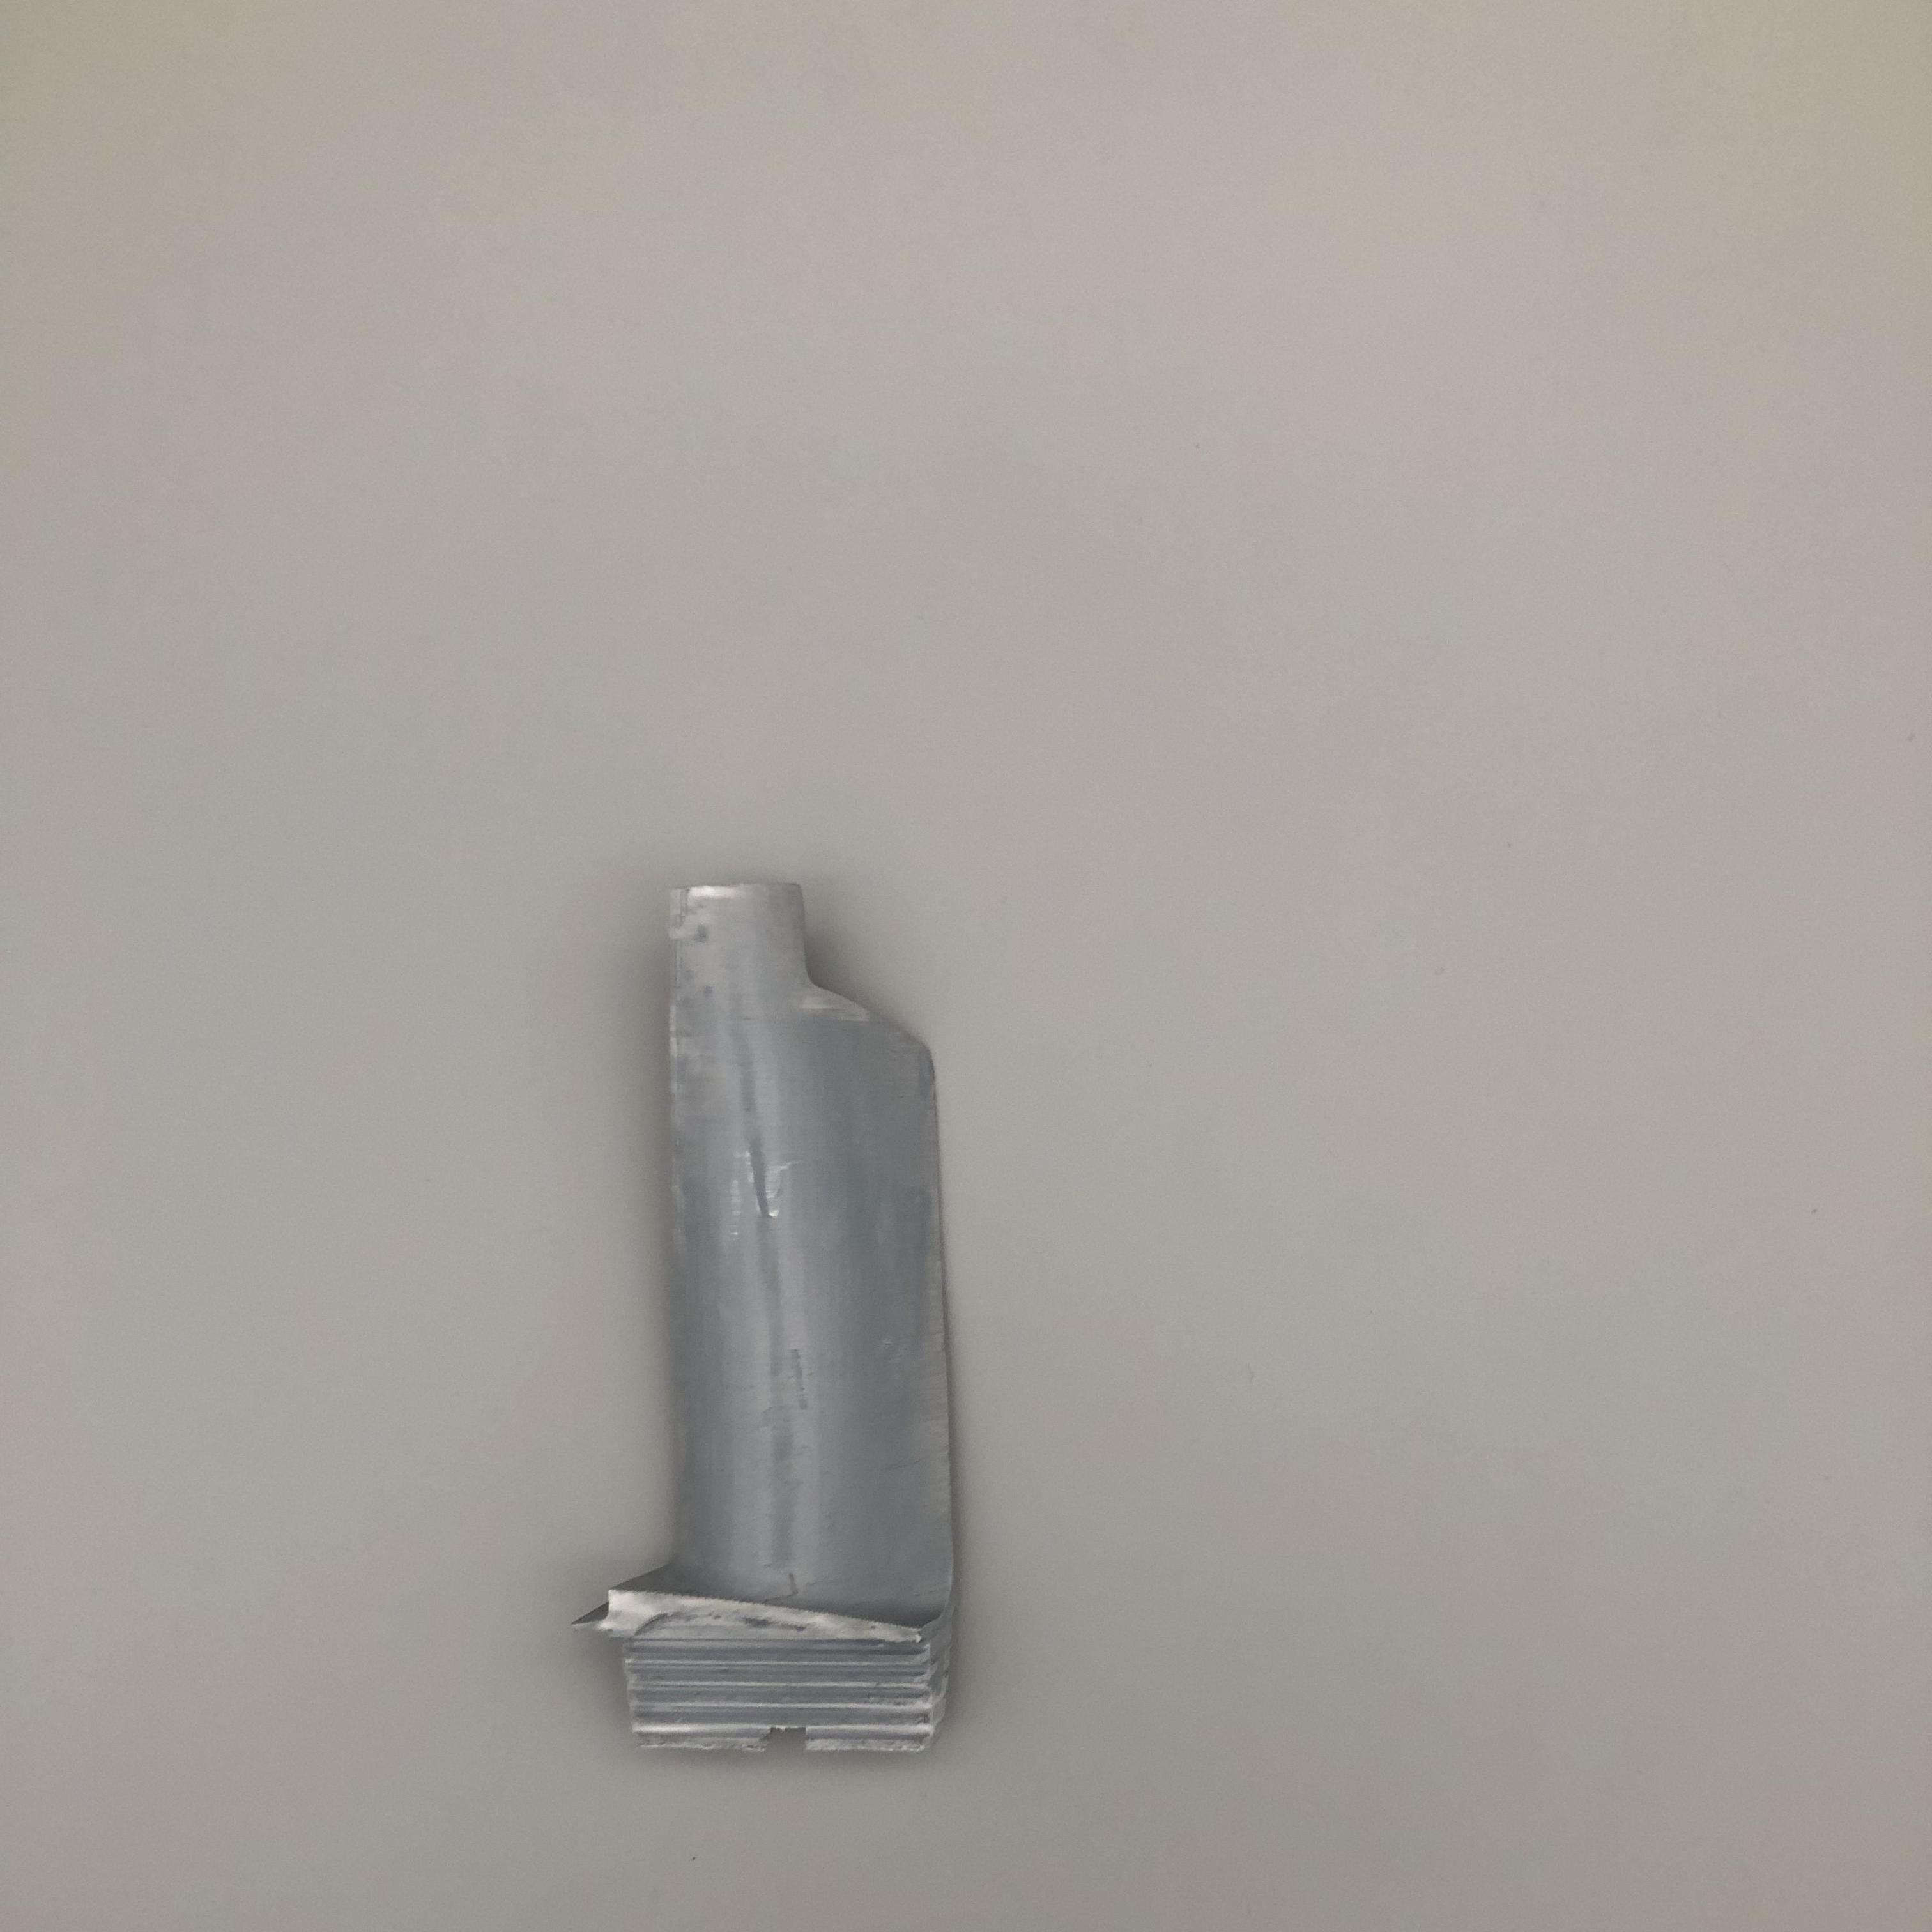fracture: (771, 886, 955, 1072)
